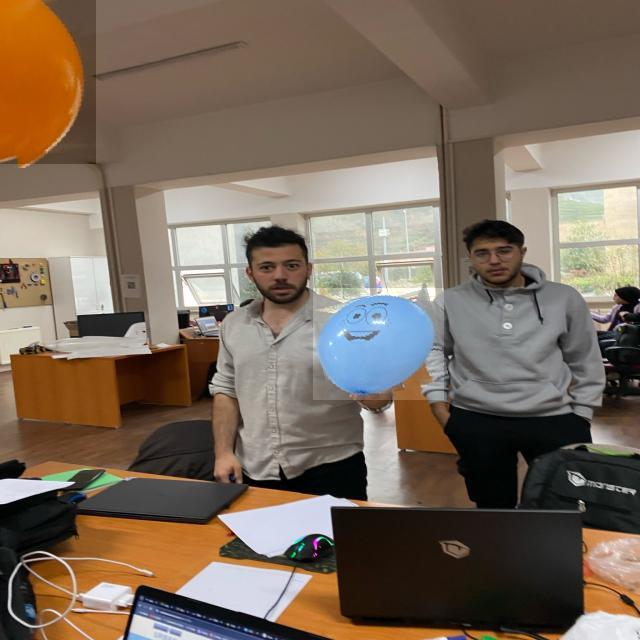balloon: (0, 0, 96, 164), (313, 288, 444, 401)
